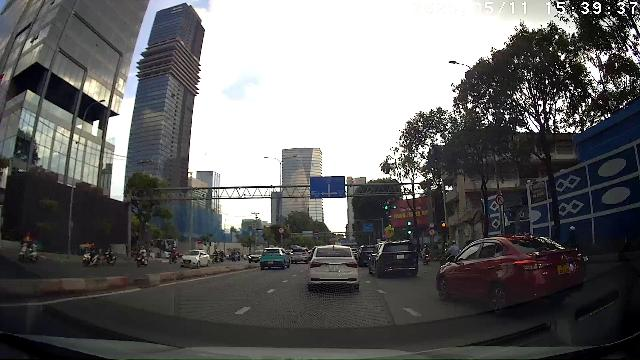103b-cam-oto-re-phai: (496, 195, 504, 206)
